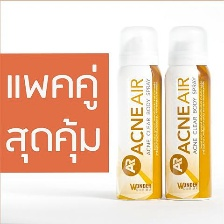aerosol_cans: (162, 21, 216, 203), (111, 24, 164, 203)
